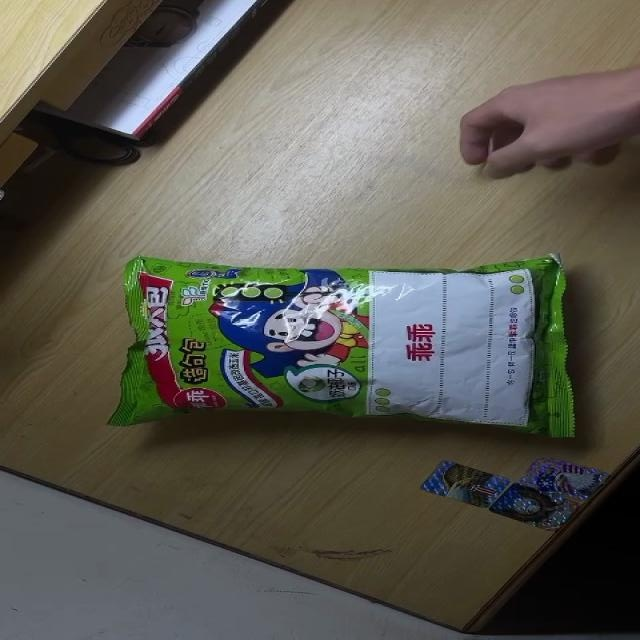Good-Luck: (100, 251, 580, 441)
